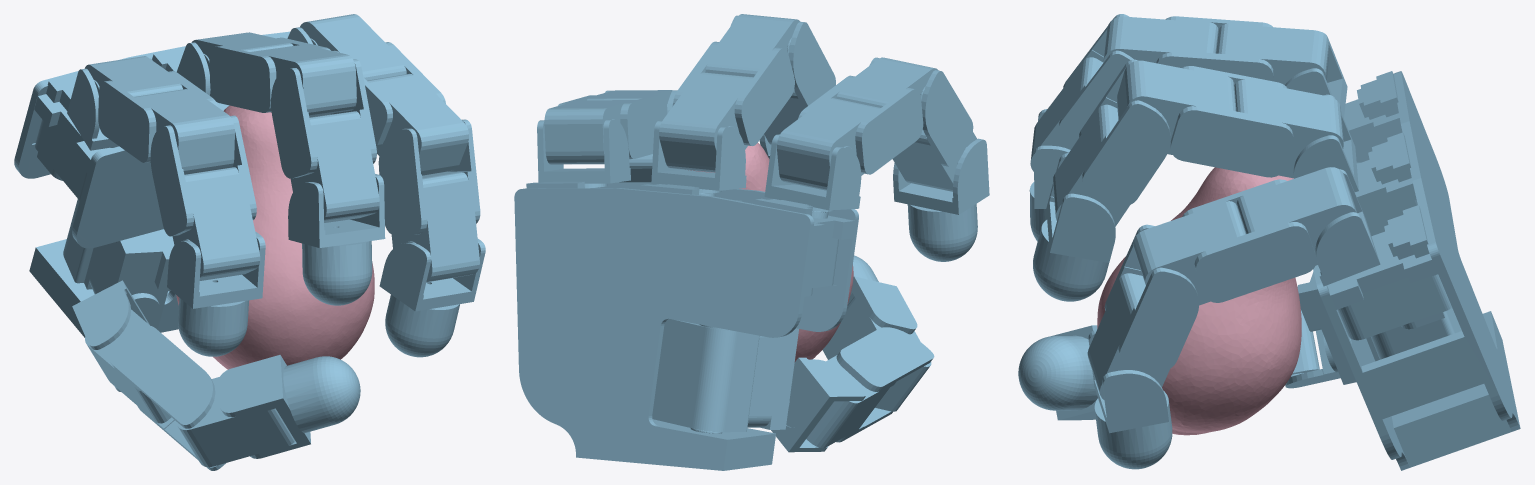
The picture shows the model from 3 angles, left to right: view 1: azimuth 30°, elevation 25°; view 2: azimuth 150°, elevation 25°; view 3: azimuth 270°, elevation 25°; orthographic projection. The views are drawn at different scales.
Parts seen in each view (by area): view 1: world, pear.stl; view 2: world, pear.stl; view 3: world, pear.stl.
Part boxes in pixels (box(x1,y1,x2,y2)): world: box(14, 14, 485, 470); pear.stl: box(176, 105, 374, 369); world: box(514, 14, 989, 470); pear.stl: box(688, 143, 853, 362); world: box(1018, 14, 1520, 470); pear.stl: box(1097, 167, 1301, 435).
Bounding box in the file's own units: 0.132 × 0.1442 × 0.1613.
